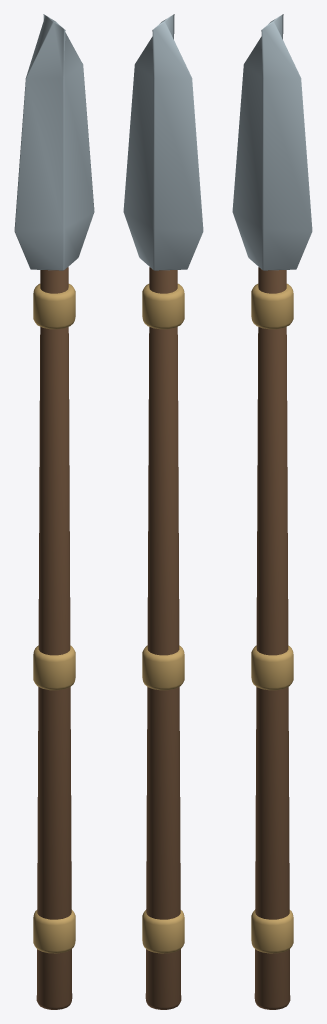
The model's file is training_spear.glb.
The picture shows the model from 3 angles, left to right: view 1: azimuth 30°, elevation 25°; view 2: azimuth 150°, elevation 25°; view 3: azimuth 330°, elevation 25°; orthographic projection.
Parts seen in each view (by area): view 1: Carved shaft, Leaf spearhead, Brass ferrule.002, Brass ferrule.001, Brass ferrule; view 2: Carved shaft, Leaf spearhead, Brass ferrule.002, Brass ferrule.001, Brass ferrule; view 3: Carved shaft, Leaf spearhead, Brass ferrule.002, Brass ferrule.001, Brass ferrule.
Boxes of the visible parts, <box> form: Carved shaft: <box>36,267,72,1009</box>; Leaf spearhead: <box>14,14,94,270</box>; Brass ferrule.002: <box>33,283,75,329</box>; Brass ferrule.001: <box>33,645,75,690</box>; Brass ferrule: <box>33,909,75,953</box>; Carved shaft: <box>145,267,181,1009</box>; Leaf spearhead: <box>123,14,203,270</box>; Brass ferrule.002: <box>142,283,184,329</box>; Brass ferrule.001: <box>142,645,184,690</box>; Brass ferrule: <box>142,909,184,953</box>; Carved shaft: <box>254,267,290,1009</box>; Leaf spearhead: <box>232,14,312,270</box>; Brass ferrule.002: <box>251,283,293,329</box>; Brass ferrule.001: <box>251,645,293,690</box>; Brass ferrule: <box>251,909,293,953</box>.
Bounding box in the file's own units: 0.2171 × 2.55 × 0.1037.
